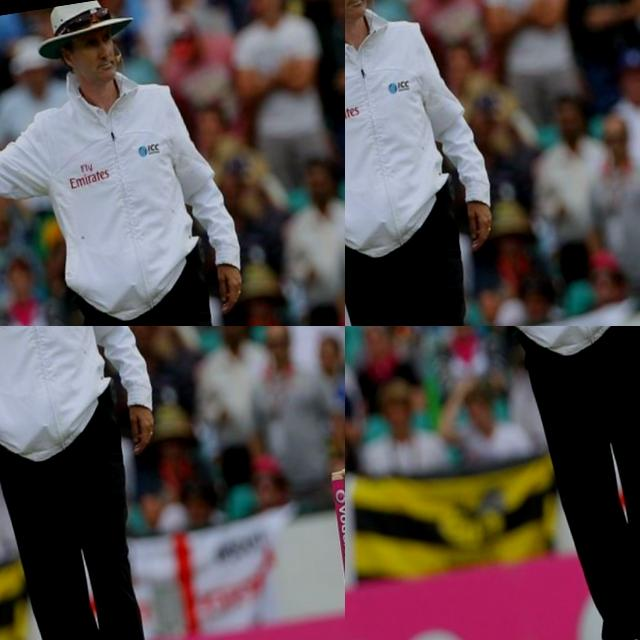No_Ball: (345, 326, 640, 640)
Out: (0, 43, 86, 222)
Six: (345, 0, 446, 165)
Wide: (0, 326, 116, 452)
